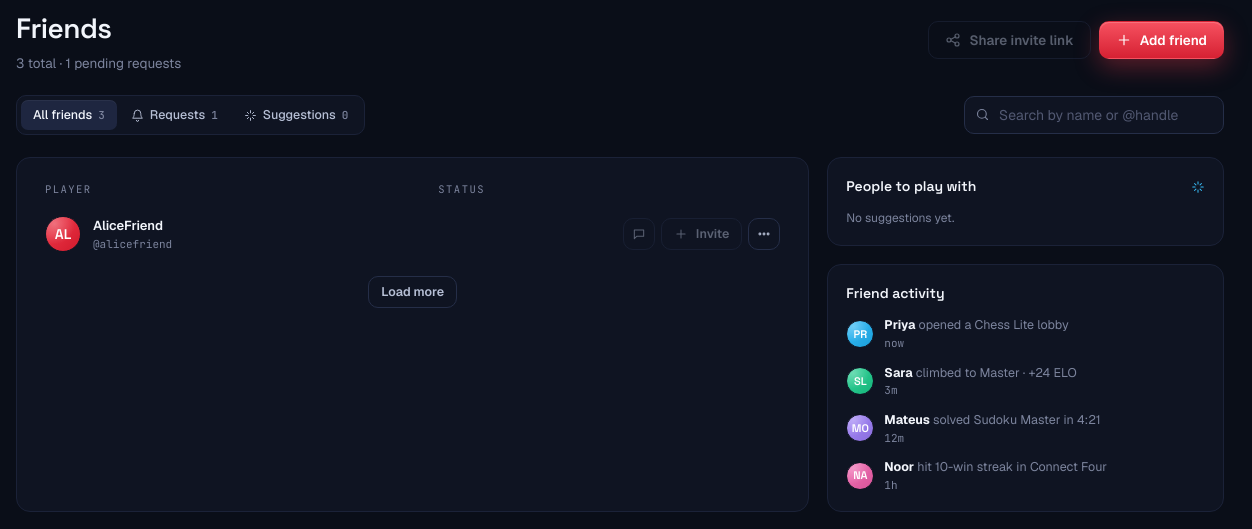
Scenario: FriendsPage › load more appends friends via the keyset cursor
This screenshot has width=1252, height=529.
Expected: the text "AliceFriend" is shown, [93, 217, 163, 234]
What coordinates should you click on to do the following:
click the button "Load more"
I would click on:
 (413, 292)
Its box is [368, 276, 457, 308].
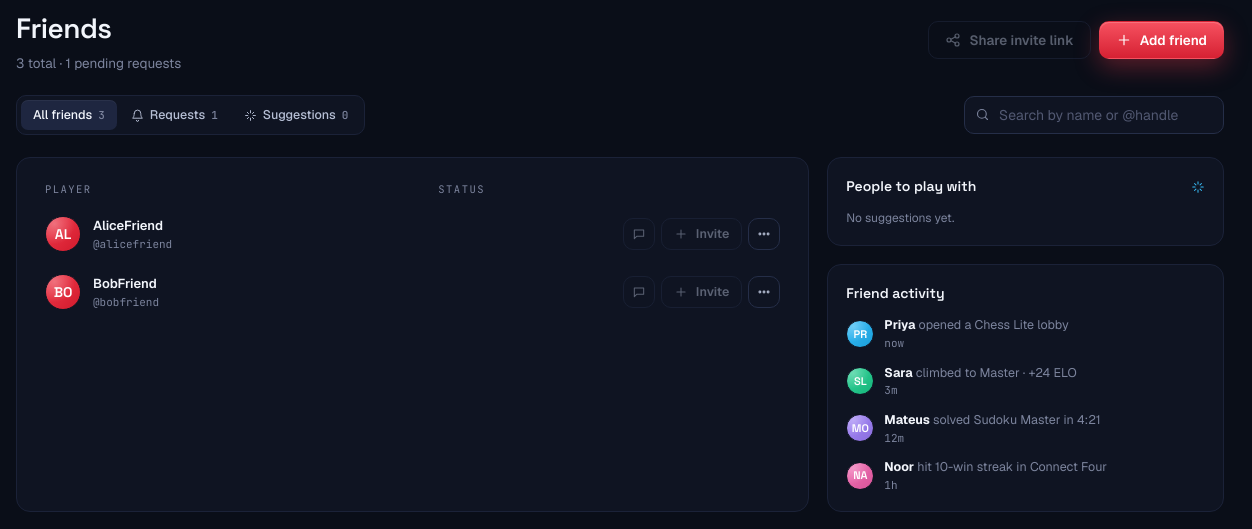
Expected: the text "AliceFriend" is shown, [93, 217, 163, 234]
Result: the text "BobFriend" is shown at [93, 275, 157, 292]
